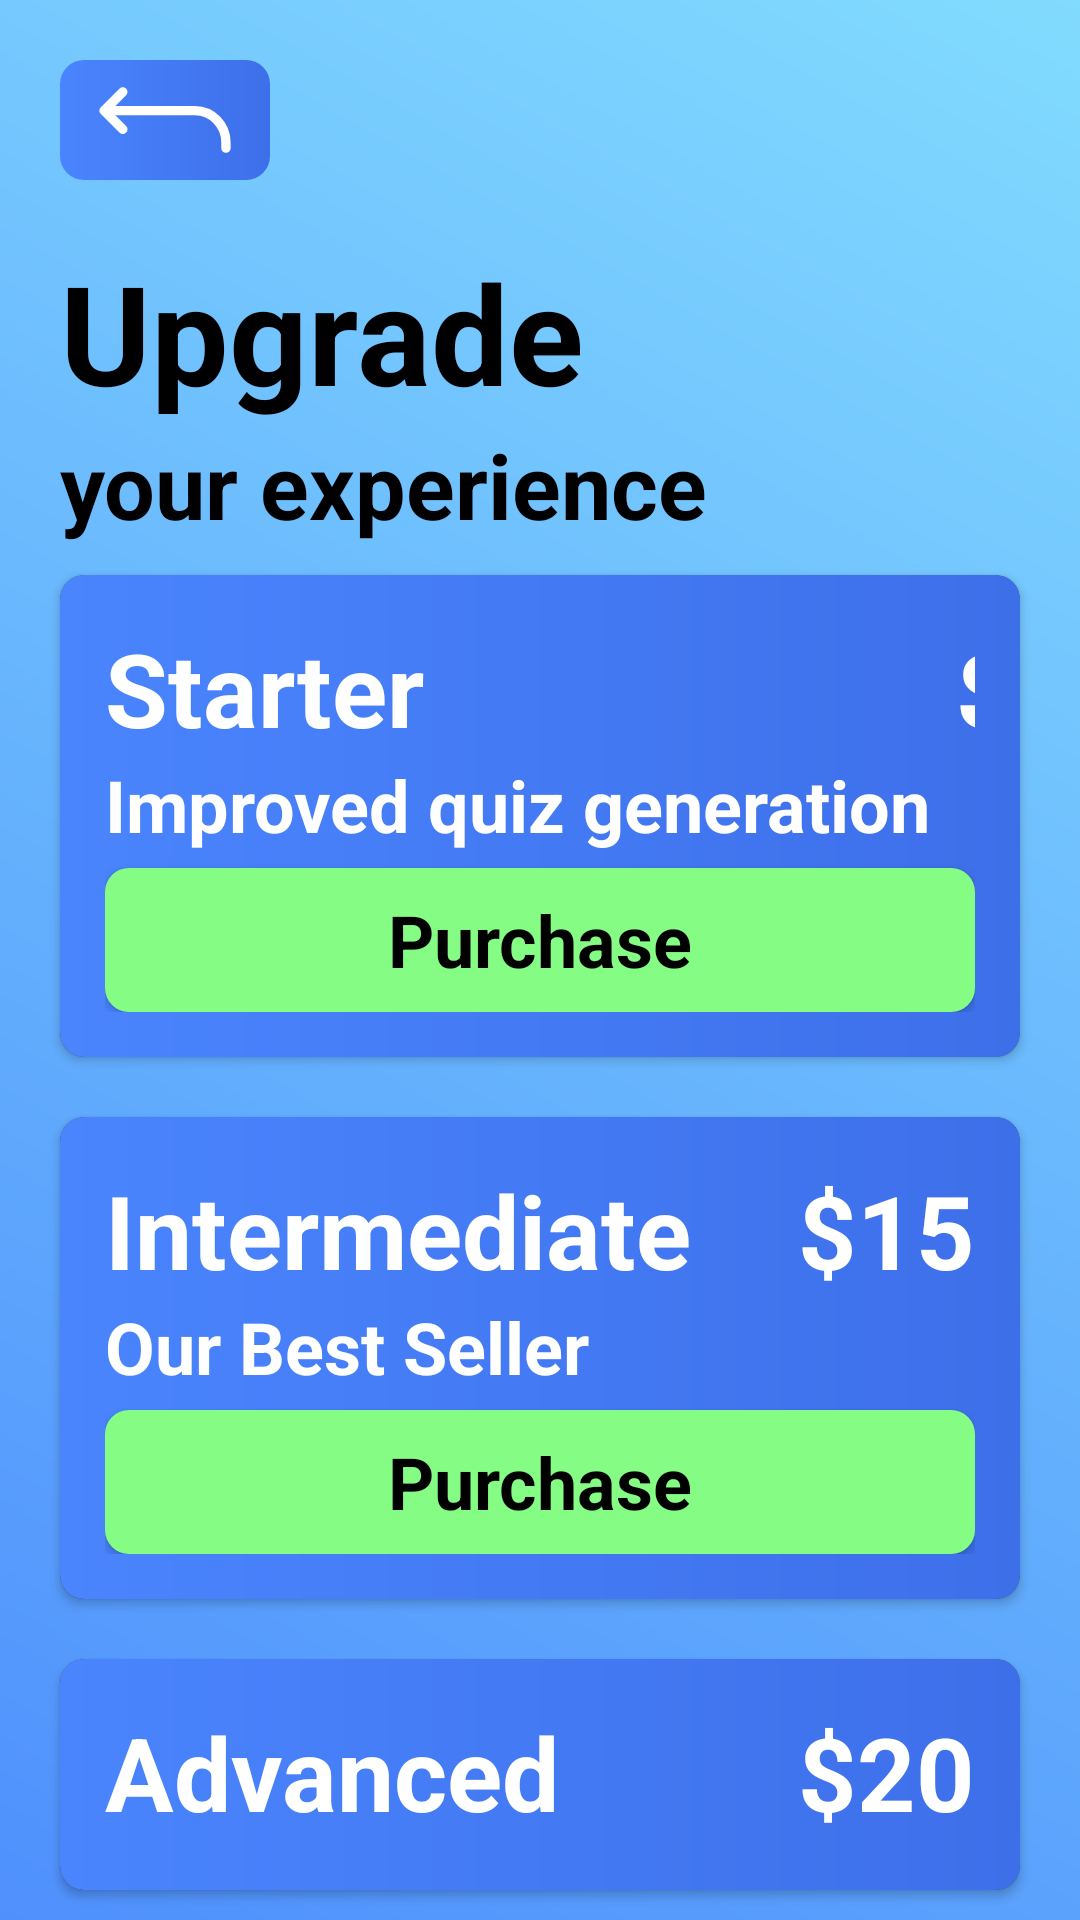

Icons on this 1080w x 1920h Android screen, each with the point to tap as (x=x, y=y):
return up back: (x=165, y=120)
